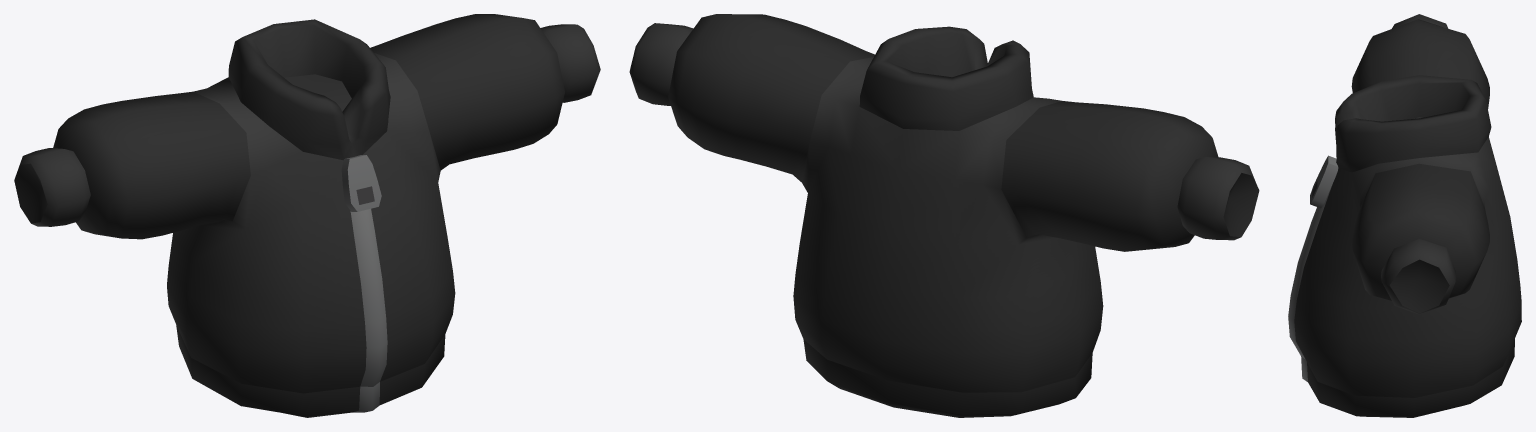
The model's file is Top_28.fbx.
The picture shows the model from 3 angles, left to right: view 1: azimuth 30°, elevation 25°; view 2: azimuth 150°, elevation 25°; view 3: azimuth 270°, elevation 25°; orthographic projection. The views are drawn at different scales.
Parts seen in each view (by area): view 1: Top_28; view 2: Top_28; view 3: Top_28.
Boxes of the visible parts, x1=… form: Top_28: x1=14, y1=14, x2=600, y2=417; Top_28: x1=629, y1=14, x2=1259, y2=417; Top_28: x1=1288, y1=14, x2=1521, y2=417.
Size of the model in its own units: 95.72 by 53.32 by 38.89.
